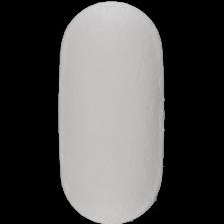67046-311: (0, 0, 224, 224)
